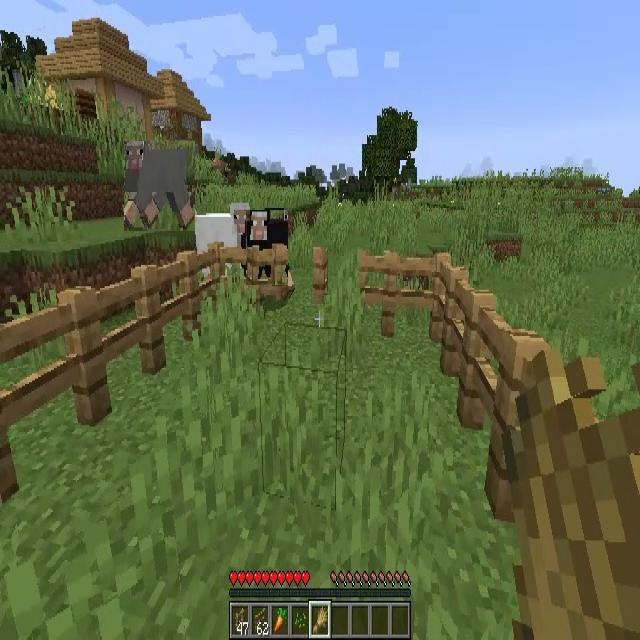sheep: (124, 141, 195, 231), (195, 204, 252, 281), (246, 210, 288, 285)
